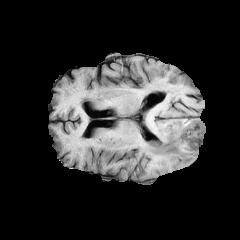glioma: (145, 119, 205, 163)
